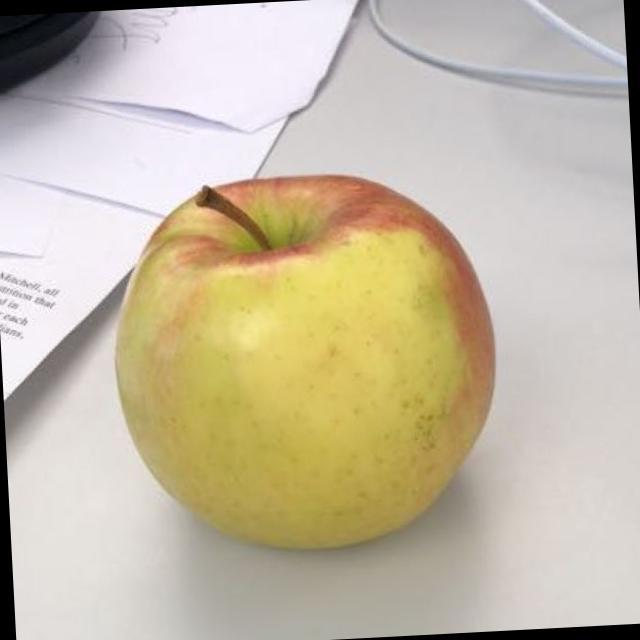Apple: (94, 153, 513, 572)
